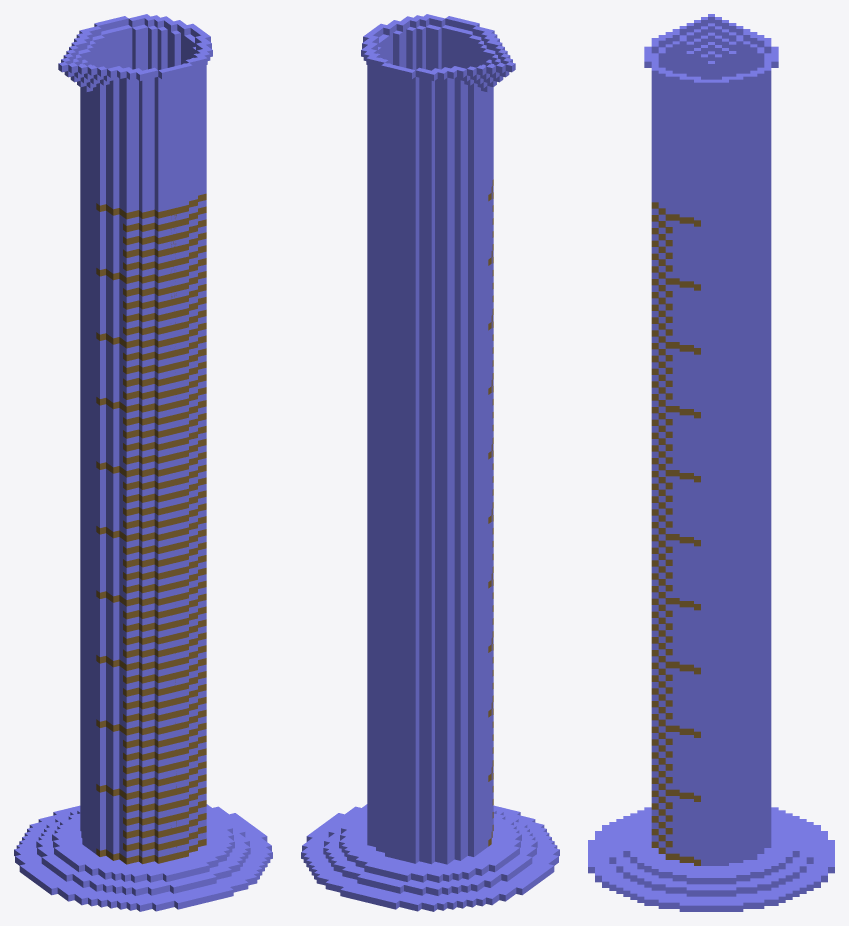
Rendered from Measuring cylinder1-4-1.fbx.
The picture shows the model from 3 angles, left to right: view 1: azimuth 30°, elevation 25°; view 2: azimuth 150°, elevation 25°; view 3: azimuth 270°, elevation 25°; orthographic projection.
Visible parts, largest first — view 1: Measuring cylinder1-4-1.001, Measuring cylinder1-4-1.002; view 2: Measuring cylinder1-4-1.001, Measuring cylinder1-4-1.002; view 3: Measuring cylinder1-4-1.001, Measuring cylinder1-4-1.002.
Part boxes in pixels (box(x1,y1,x2,y2)): Measuring cylinder1-4-1.001: box(14, 14, 272, 911); Measuring cylinder1-4-1.002: box(96, 193, 206, 864); Measuring cylinder1-4-1.001: box(301, 14, 559, 911); Measuring cylinder1-4-1.002: box(488, 179, 493, 846); Measuring cylinder1-4-1.001: box(588, 14, 834, 911); Measuring cylinder1-4-1.002: box(651, 202, 700, 865).
Bounding box in the file's own units: 3.5 × 12.6 × 3.5.
